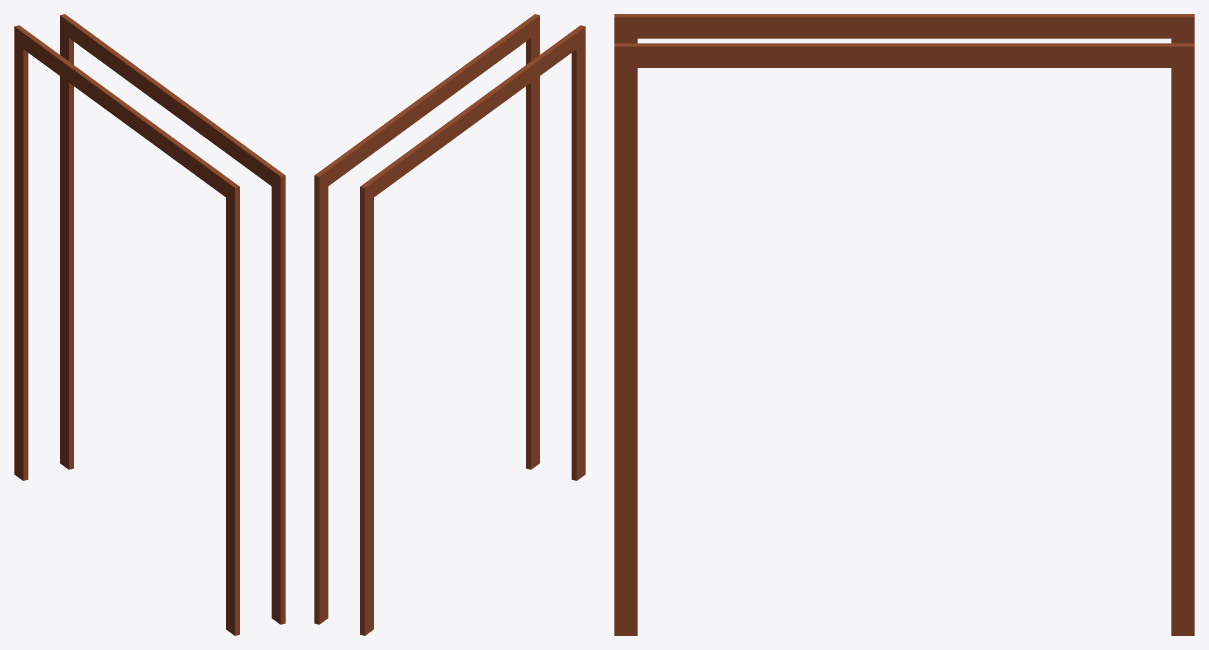
The model's file is 3X414Lh312cfMiVfxwG6ps.dae.
3 renders of one model, left to right at view 1: azimuth 30°, elevation 25°; view 2: azimuth 150°, elevation 25°; view 3: azimuth 270°, elevation 25°, orthographic. The views are drawn at different scales.
Parts seen in each view (by area): view 1: product-e1101115-ac30-429a-95ac-7e9efa406cf6-body; view 2: product-e1101115-ac30-429a-95ac-7e9efa406cf6-body; view 3: product-e1101115-ac30-429a-95ac-7e9efa406cf6-body.
Part boxes in pixels (x1,y1,x2,y2): product-e1101115-ac30-429a-95ac-7e9efa406cf6-body: (14,14,285,635); product-e1101115-ac30-429a-95ac-7e9efa406cf6-body: (314,14,585,635); product-e1101115-ac30-429a-95ac-7e9efa406cf6-body: (614,14,1194,635).
Size of the model in its own units: 0.25 by 1.88 by 2.11.
